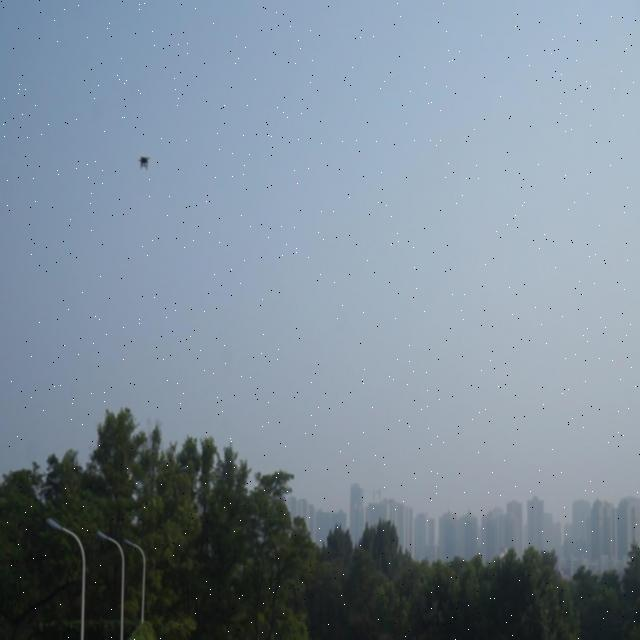UAV: (138, 156, 150, 170)
